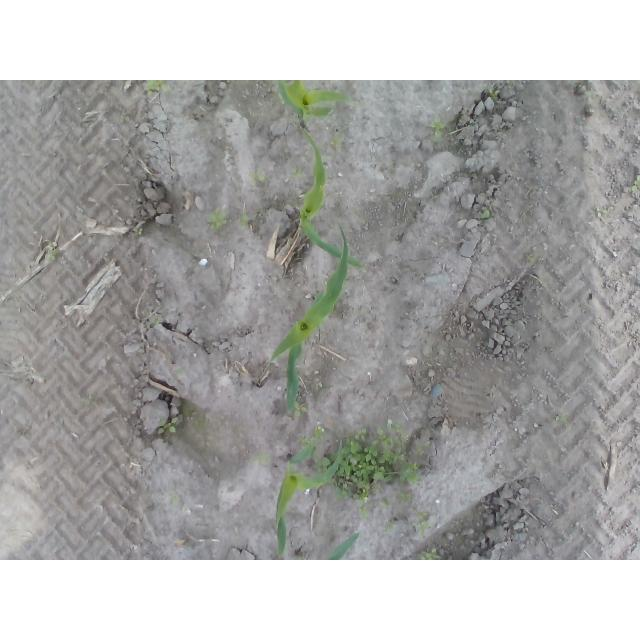Maize: (271, 223, 349, 421), (296, 125, 368, 274), (274, 433, 342, 560), (272, 80, 353, 122), (324, 532, 361, 560)
Weeds: (312, 423, 428, 517), (430, 116, 455, 141), (142, 80, 174, 96), (207, 207, 226, 230), (159, 417, 178, 435), (415, 548, 441, 560), (416, 519, 432, 537), (252, 171, 273, 183), (331, 134, 346, 150), (287, 166, 305, 179), (383, 521, 397, 536), (596, 202, 609, 218), (239, 210, 249, 230), (631, 174, 640, 193), (479, 208, 492, 221), (488, 86, 500, 99), (255, 451, 270, 461), (295, 402, 306, 415), (46, 250, 56, 261), (300, 435, 309, 445), (133, 227, 144, 235), (151, 318, 162, 326)
